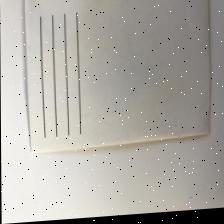paper: (11, 0, 224, 173)
